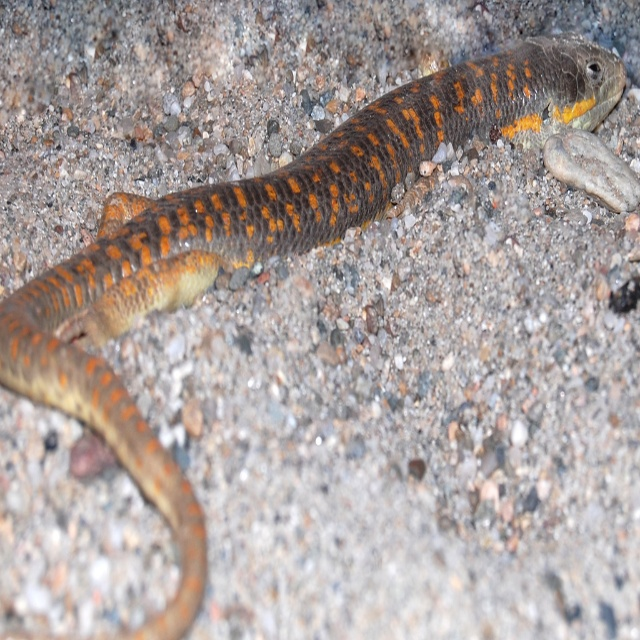Lizard: (0, 30, 627, 640)
